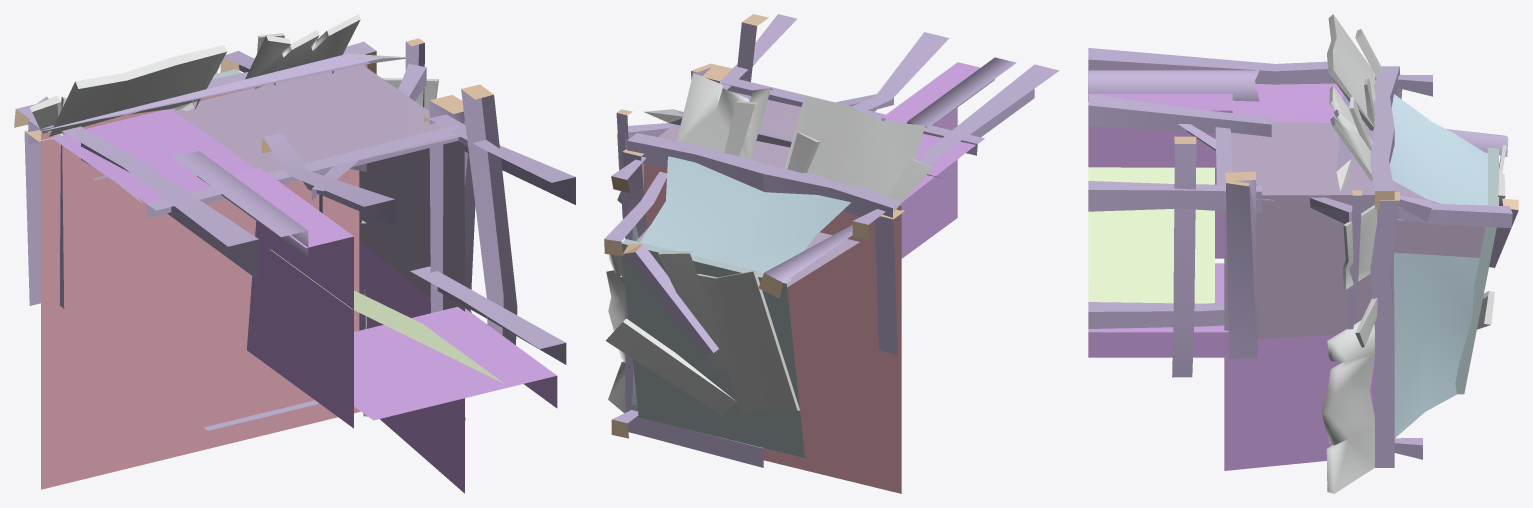
3 renders of one model, left to right at view 1: azimuth 30°, elevation 25°; view 2: azimuth 150°, elevation 25°; view 3: azimuth 270°, elevation 25°, orthographic. The views are drawn at different scales.
Parts seen in each view (by area): view 1: Object24; view 2: Object24; view 3: Object24.
Part boxes in pixels (x1,y1,x2,y2): Object24: [14, 14, 575, 493]; Object24: [604, 14, 1059, 493]; Object24: [1088, 14, 1518, 493].
Bounding box in the file's own units: 46367 × 45072 × 52071.
